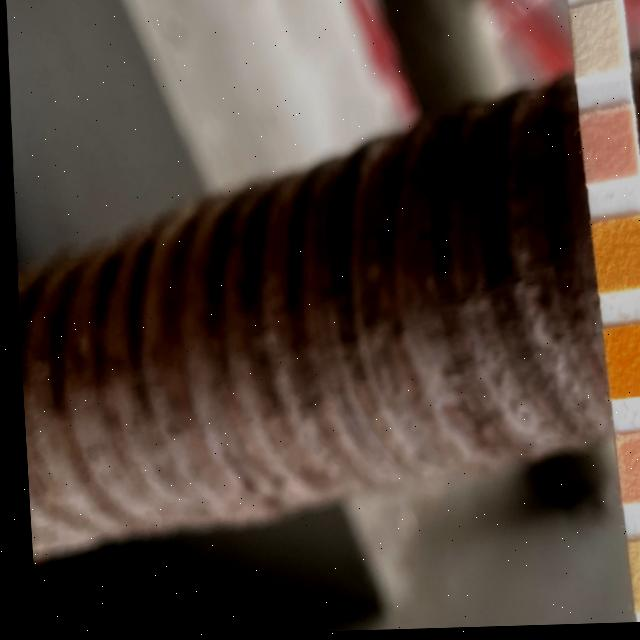Bilirubin: (570, 11, 622, 71)
Blood: (602, 331, 640, 397)
Ketone: (581, 118, 633, 181)
Protein: (624, 547, 640, 612)
SpGravity: (590, 227, 640, 289)
pH: (612, 438, 640, 502)
